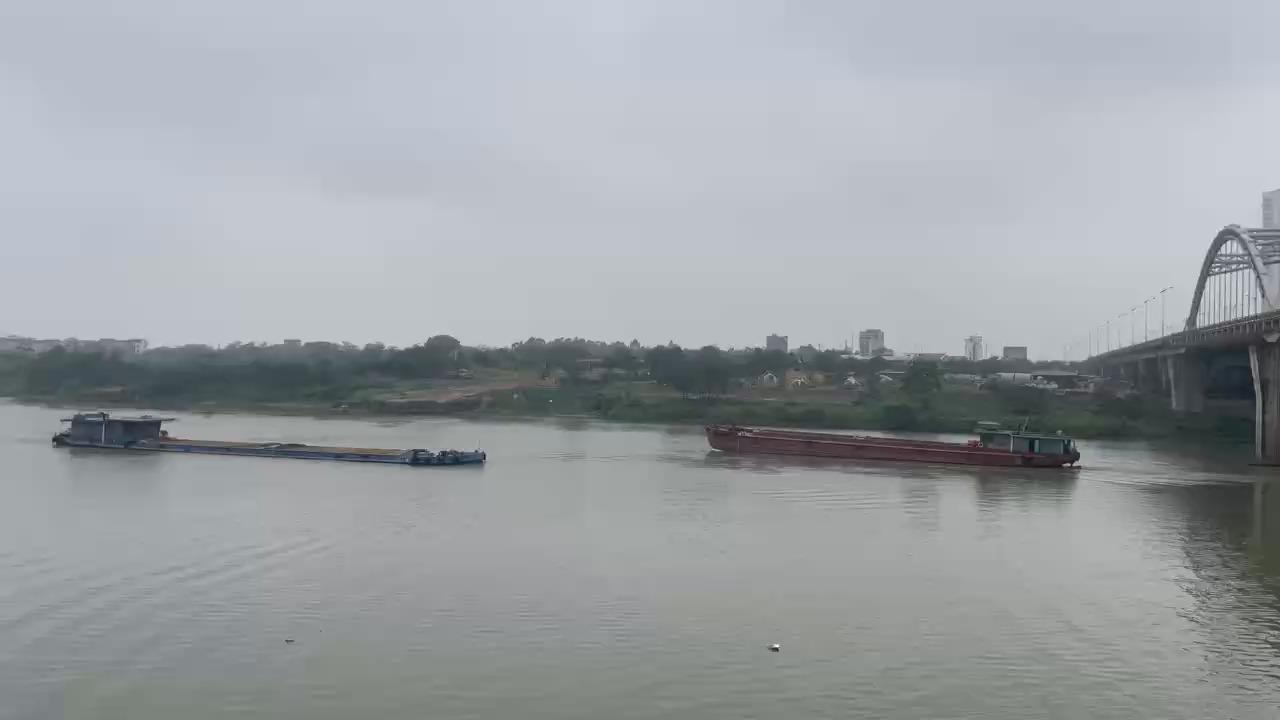Ship: (54, 406, 496, 479), (704, 417, 1086, 478)
